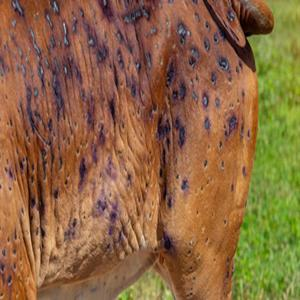lumpy skin diesease: (0, 0, 274, 299)
